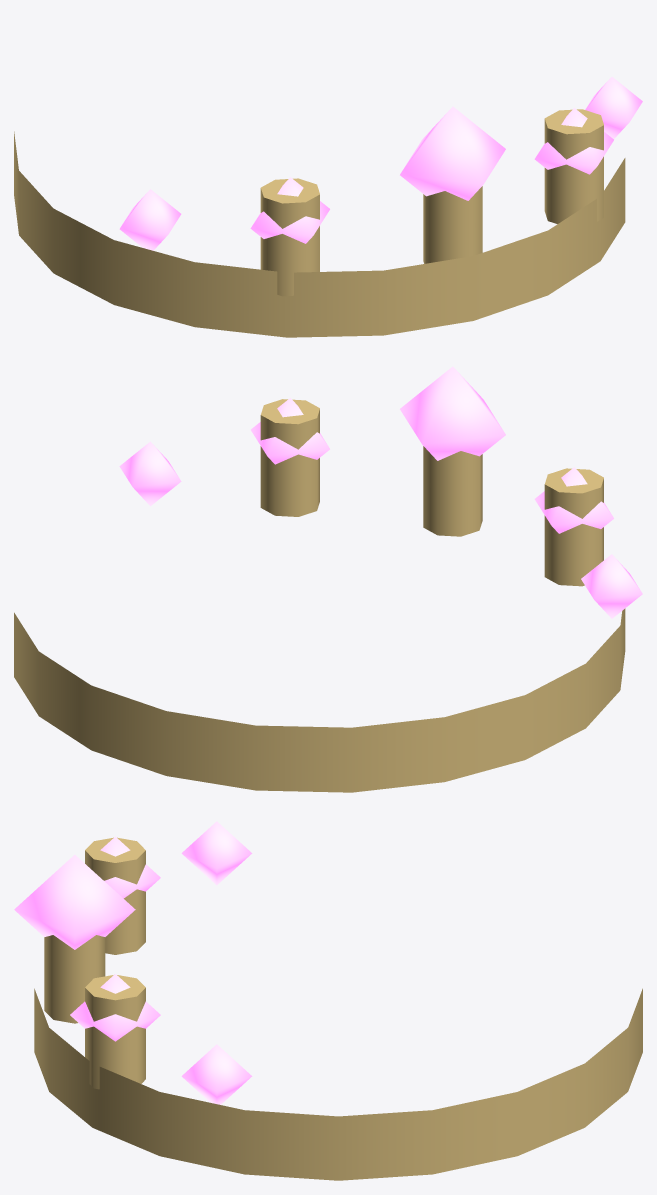
Rendered from aether_crown.glb.
The picture shows the model from 3 angles, top to bottom: view 1: azimuth 30°, elevation 25°; view 2: azimuth 150°, elevation 25°; view 3: azimuth 270°, elevation 25°; orthographic projection.
Parts seen in each view (by area): view 1: band, mounts, crystals; view 2: band, mounts, crystals; view 3: band, crystals, mounts.
Boxes of the visible parts, x1,y1,x2,y2 form: band: (14,131,625,337); mounts: (260,109,603,296); crystals: (119,77,642,250); band: (14,608,625,792); mounts: (260,399,603,586); crystals: (119,366,642,618); band: (34,988,642,1180); crystals: (14,821,252,1104); mounts: (44,837,145,1089).
Bounding box in the file's own units: 0.3 × 0.1075 × 0.31.
